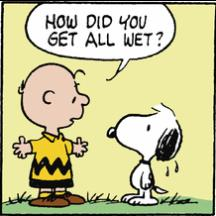charlie: (10, 60, 92, 208)
snoopy: (106, 100, 184, 208)
